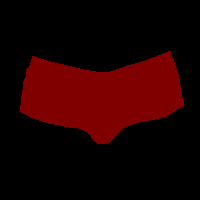mutande: (19, 50, 184, 144)
